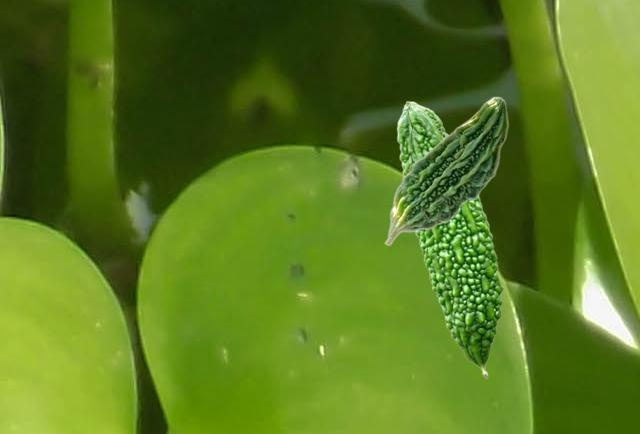ampalaya: (395, 100, 507, 381), (382, 94, 511, 248)
